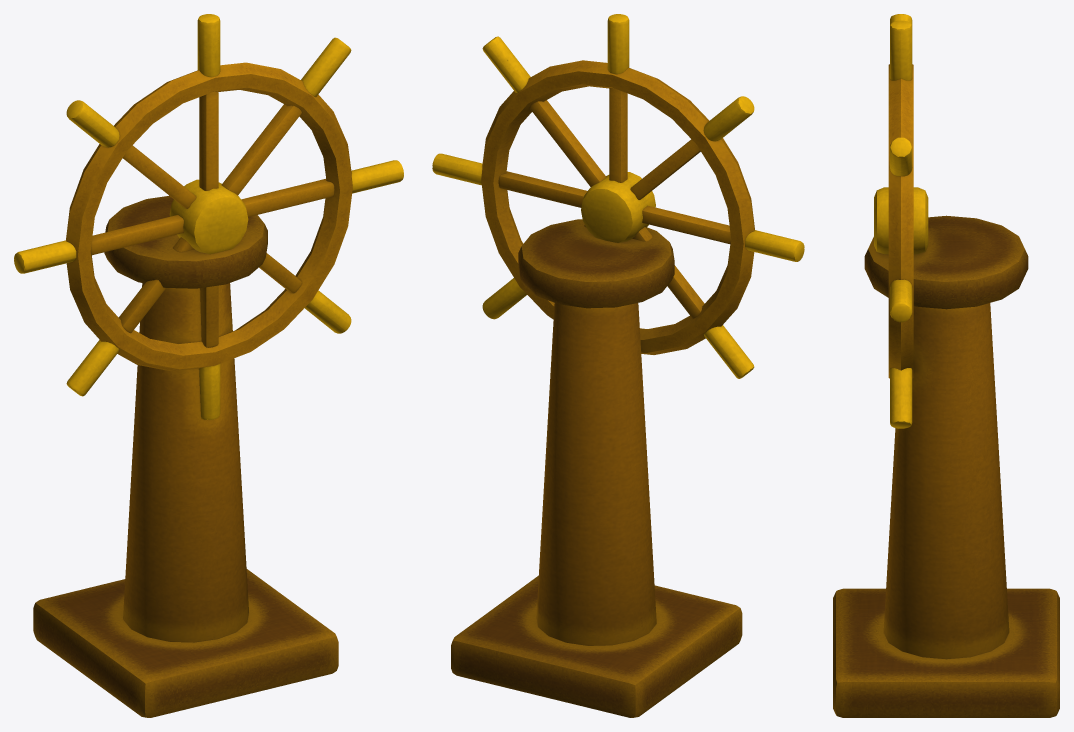
File: ShipWheel.fbx
3 views of the same model, side by side, from view 1: azimuth 30°, elevation 25°; view 2: azimuth 150°, elevation 25°; view 3: azimuth 270°, elevation 25° (orthographic). The views are drawn at different scales.
Visible parts, largest first — view 1: ShipWheel; view 2: ShipWheel; view 3: ShipWheel.
Part boxes in pixels (x1,y1,x2,y2): ShipWheel: (14, 14, 403, 717); ShipWheel: (432, 14, 804, 717); ShipWheel: (833, 14, 1059, 717).
Bounding box in the file's own units: 0.96 × 1.58 × 0.5.
